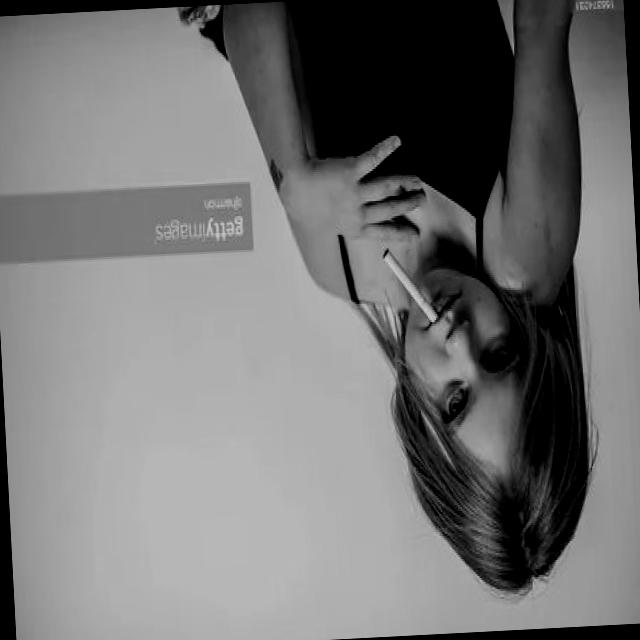smoke: (379, 244, 443, 328)
